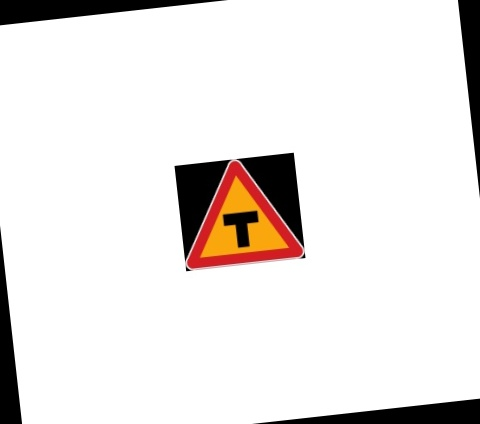South Korea_T-shaped intersection: (102, 103, 377, 321)
